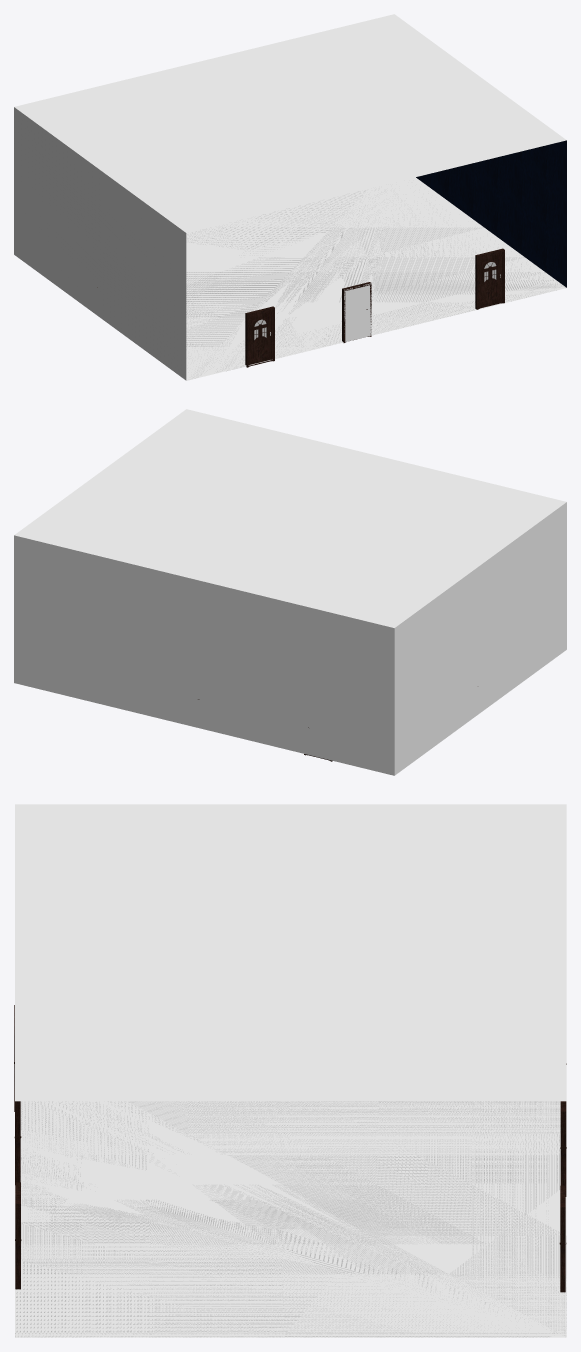
The model's file is Foyer.dae.
The picture shows the model from 3 angles, top to bottom: view 1: azimuth 30°, elevation 25°; view 2: azimuth 150°, elevation 25°; view 3: azimuth 270°, elevation 25°; orthographic projection. The views are drawn at different scales.
Parts seen in each view (by area): view 1: SketchUp (×3), Component_20 (×2); view 2: SketchUp; view 3: SketchUp (×2).
Part boxes in pixels (x1,y1,x2,y2): SketchUp (×3): (14,14,566,380); Component_20 (×2): (245,248,504,367); SketchUp: (14,409,566,775); SketchUp (×2): (15,804,566,1337).
Bounding box in the file's own units: 647 × 509 × 242.
